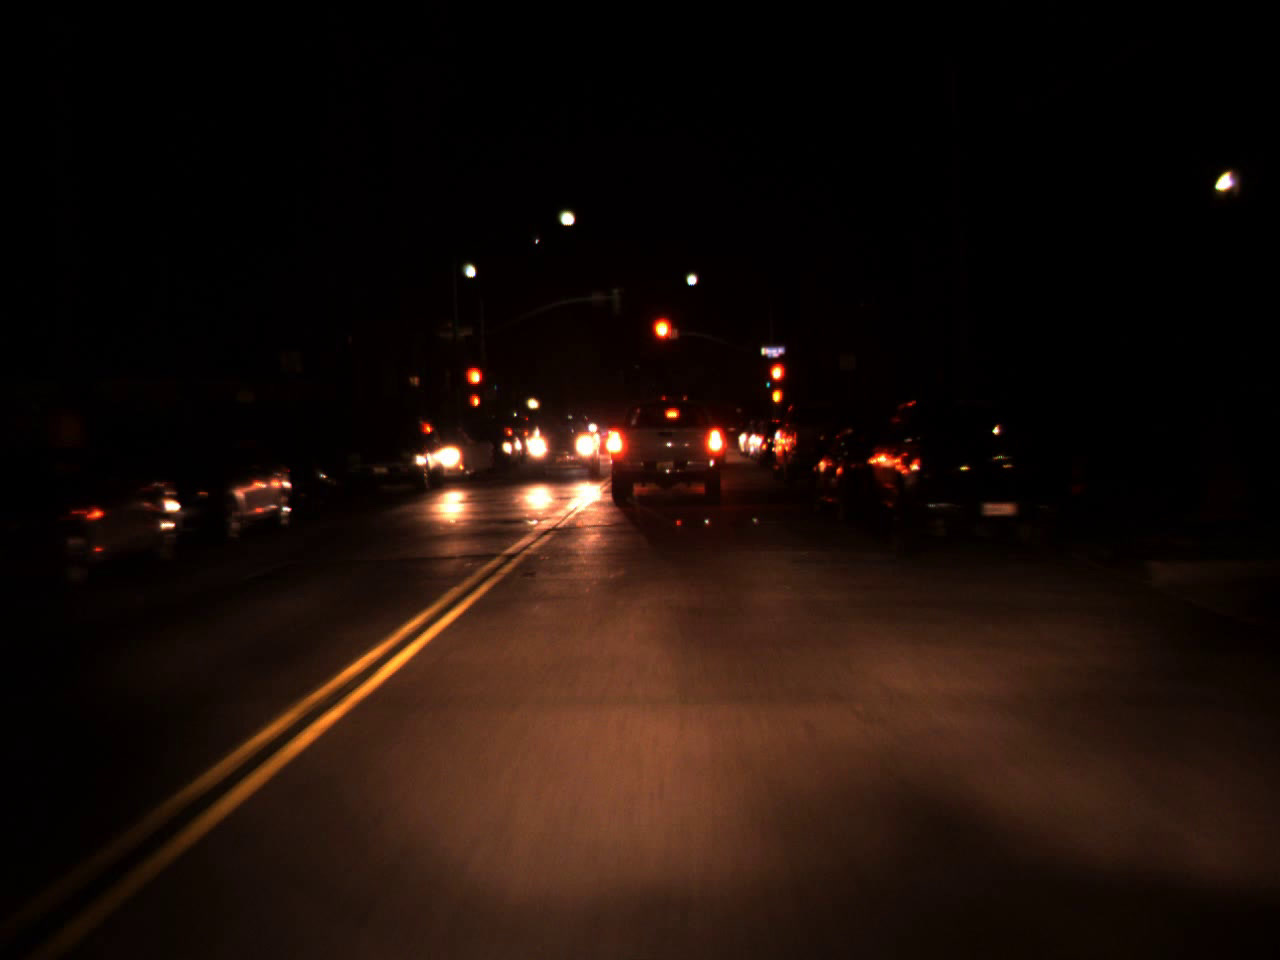stop: (649, 314, 676, 365), (766, 360, 787, 403), (464, 364, 485, 407)
